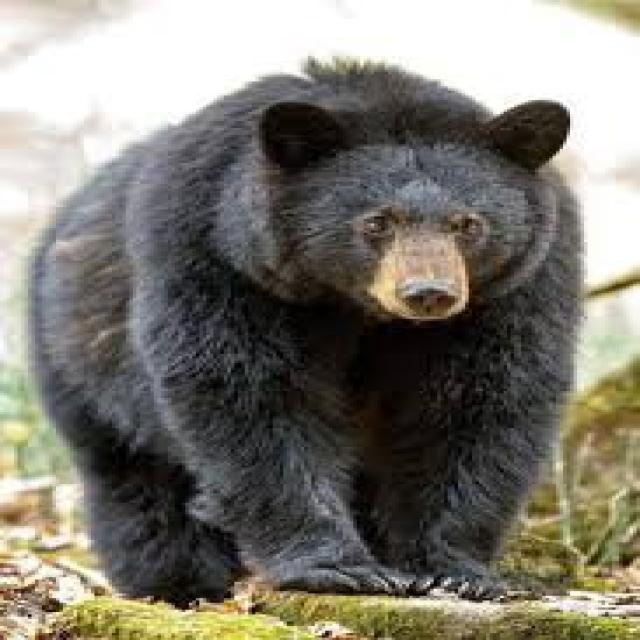bear: (45, 0, 608, 635)
